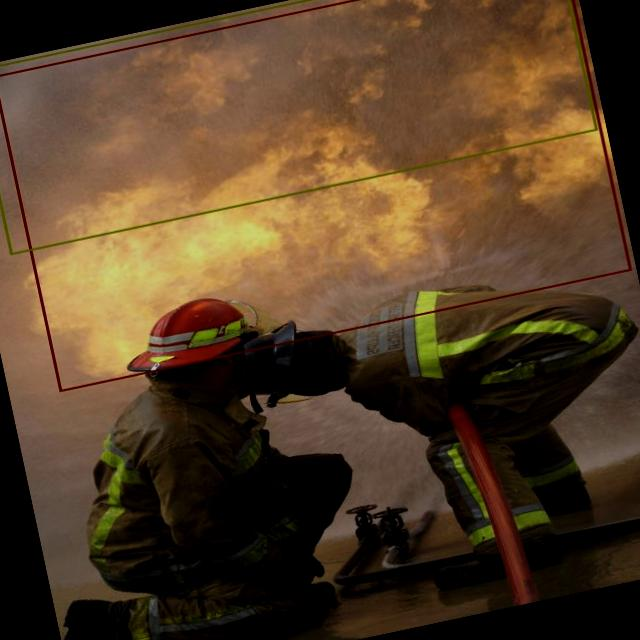fire: (0, 0, 631, 391)
smoke: (0, 0, 598, 254)
